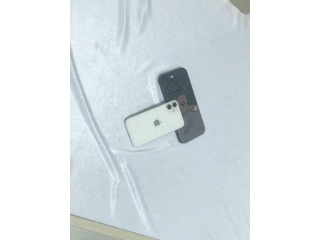phone: (156, 66, 207, 145), (124, 99, 184, 148)
